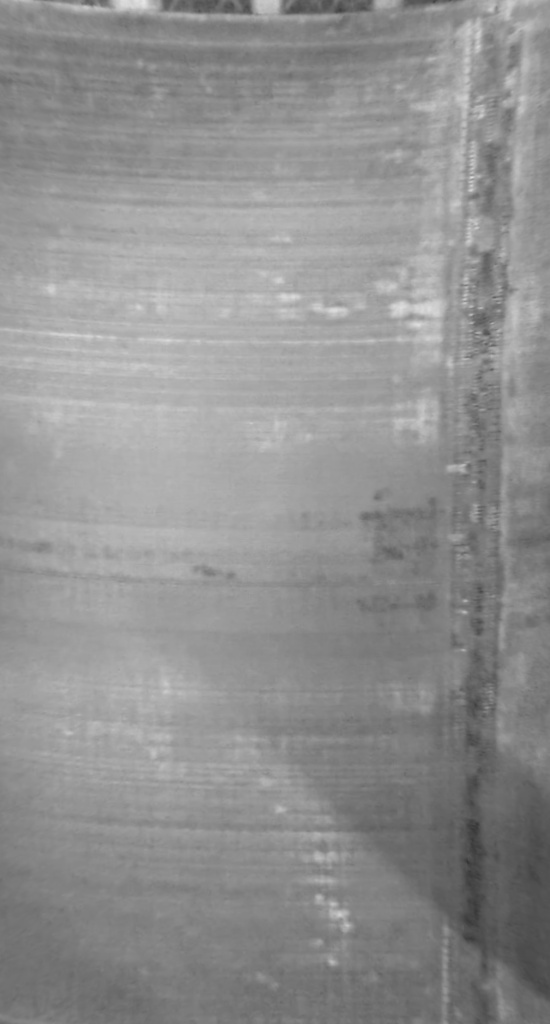splice: (428, 1, 531, 1023)
